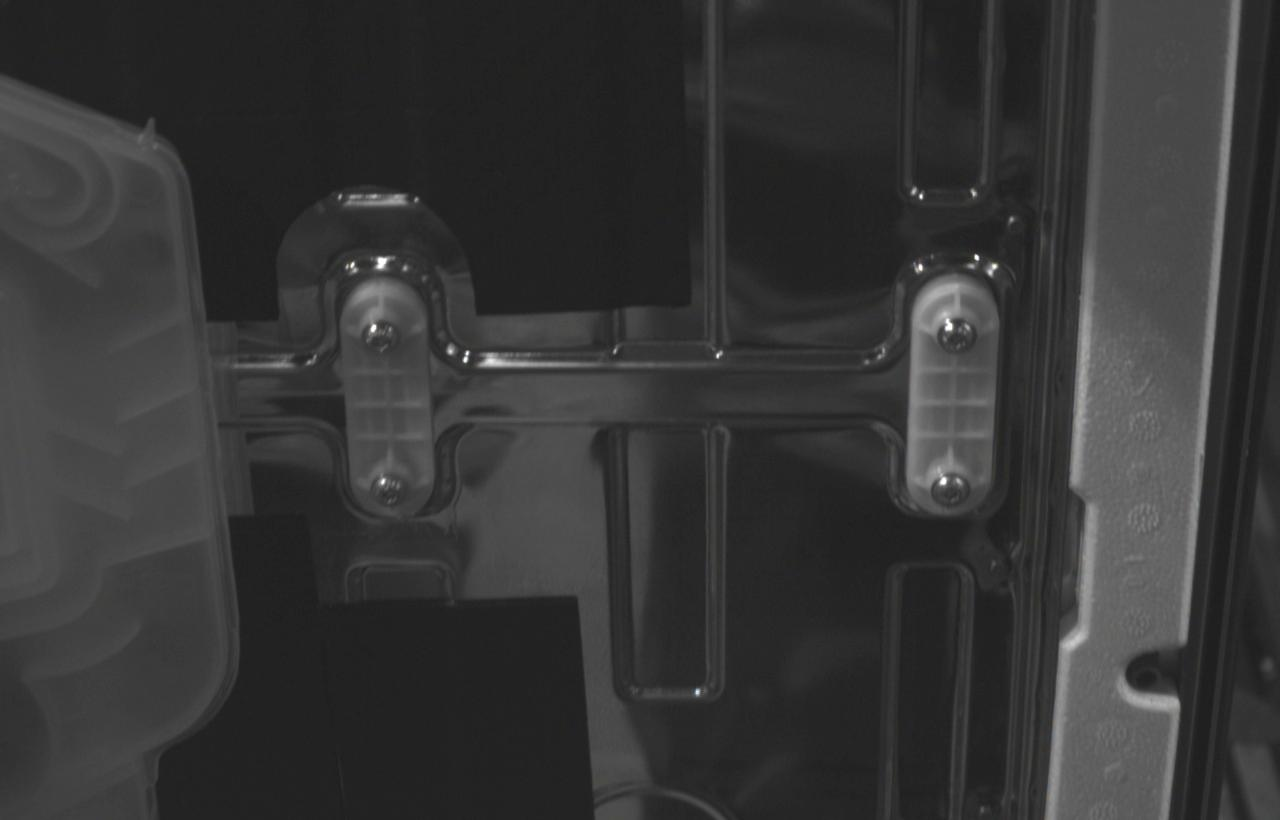vida-ok: (929, 470, 972, 512), (937, 318, 979, 358), (368, 473, 410, 512), (360, 320, 400, 358)
